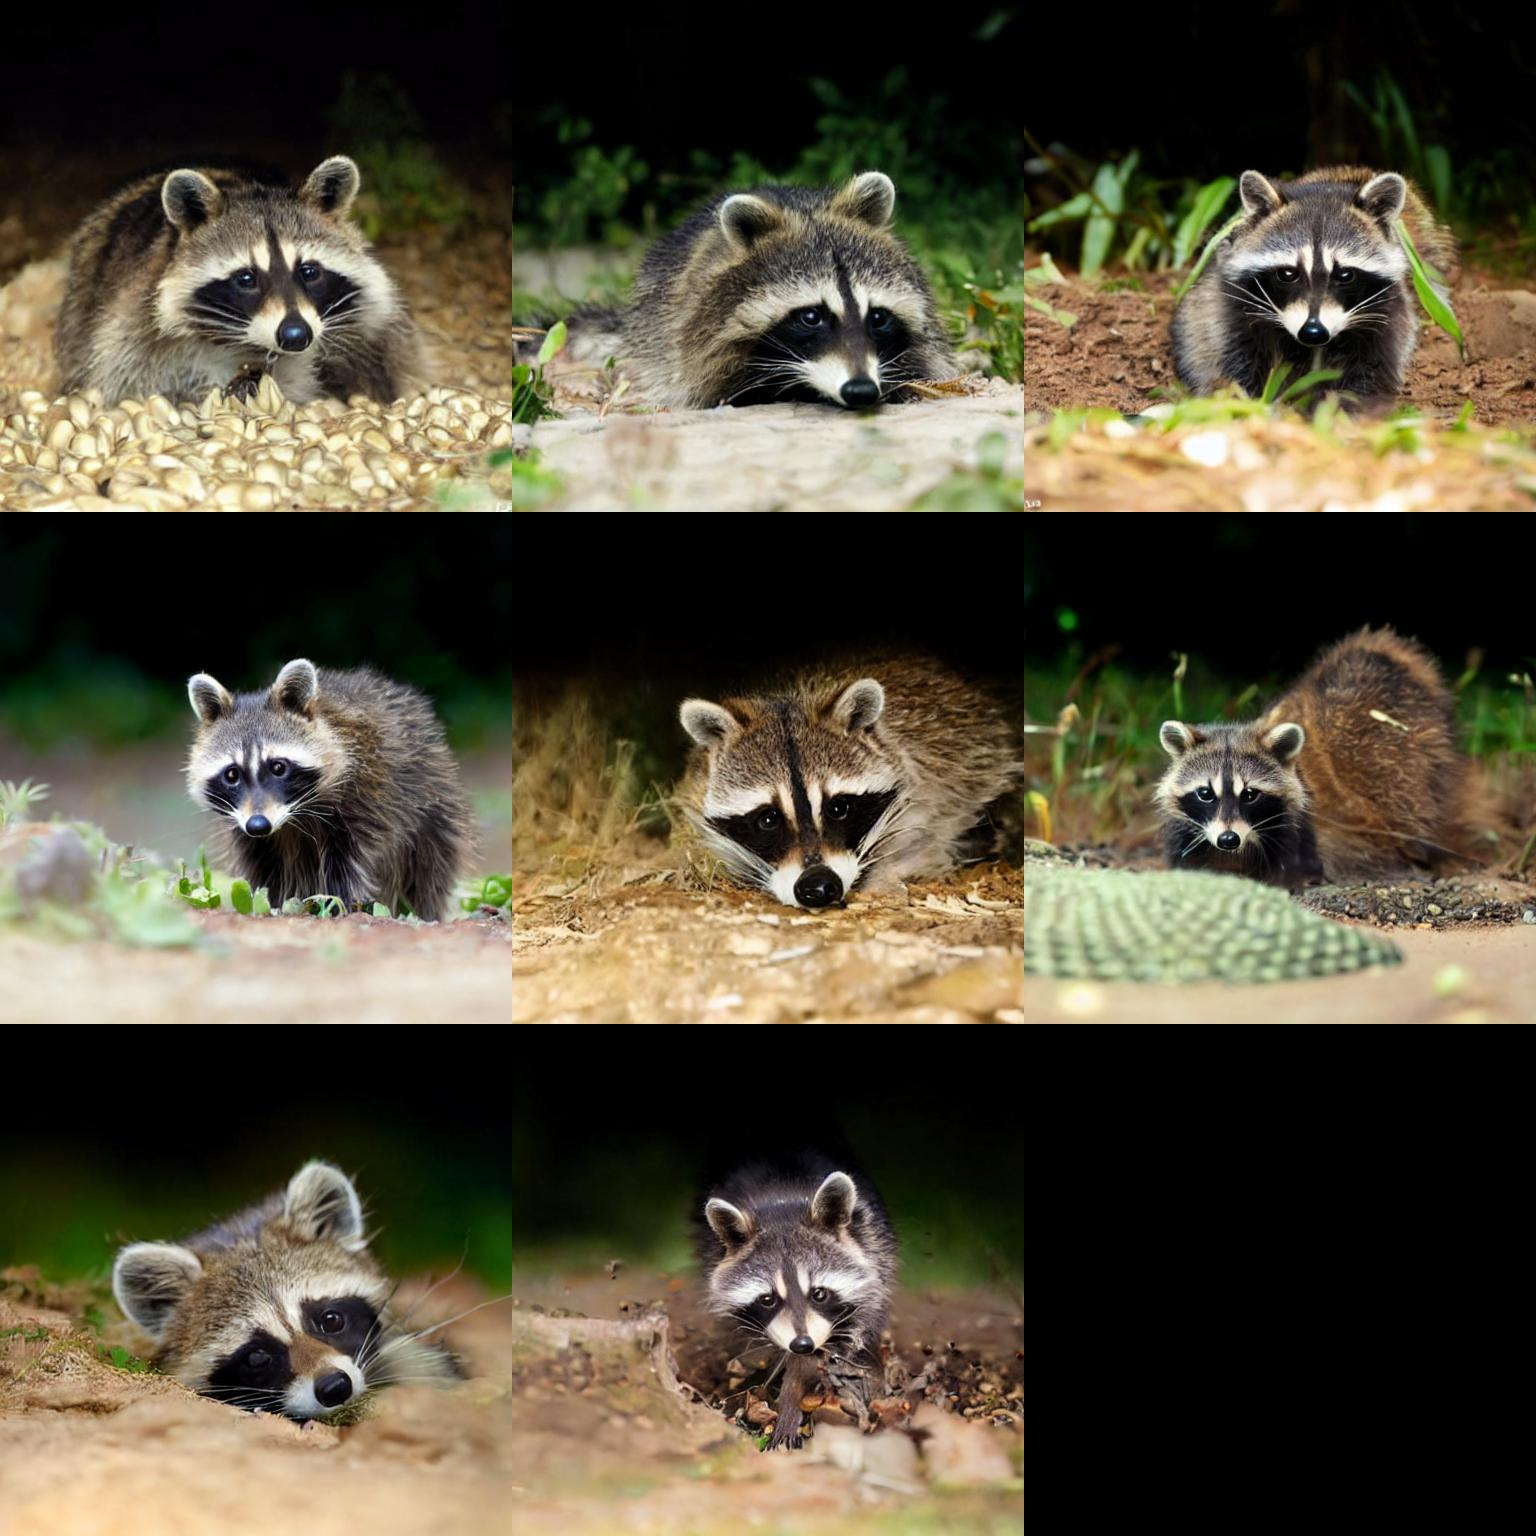raccoon: (100, 1151, 484, 1442), (55, 146, 433, 407), (670, 651, 1023, 917), (612, 165, 958, 415), (1141, 153, 1471, 412), (177, 648, 477, 927), (671, 1155, 906, 1377), (1146, 698, 1421, 875)
